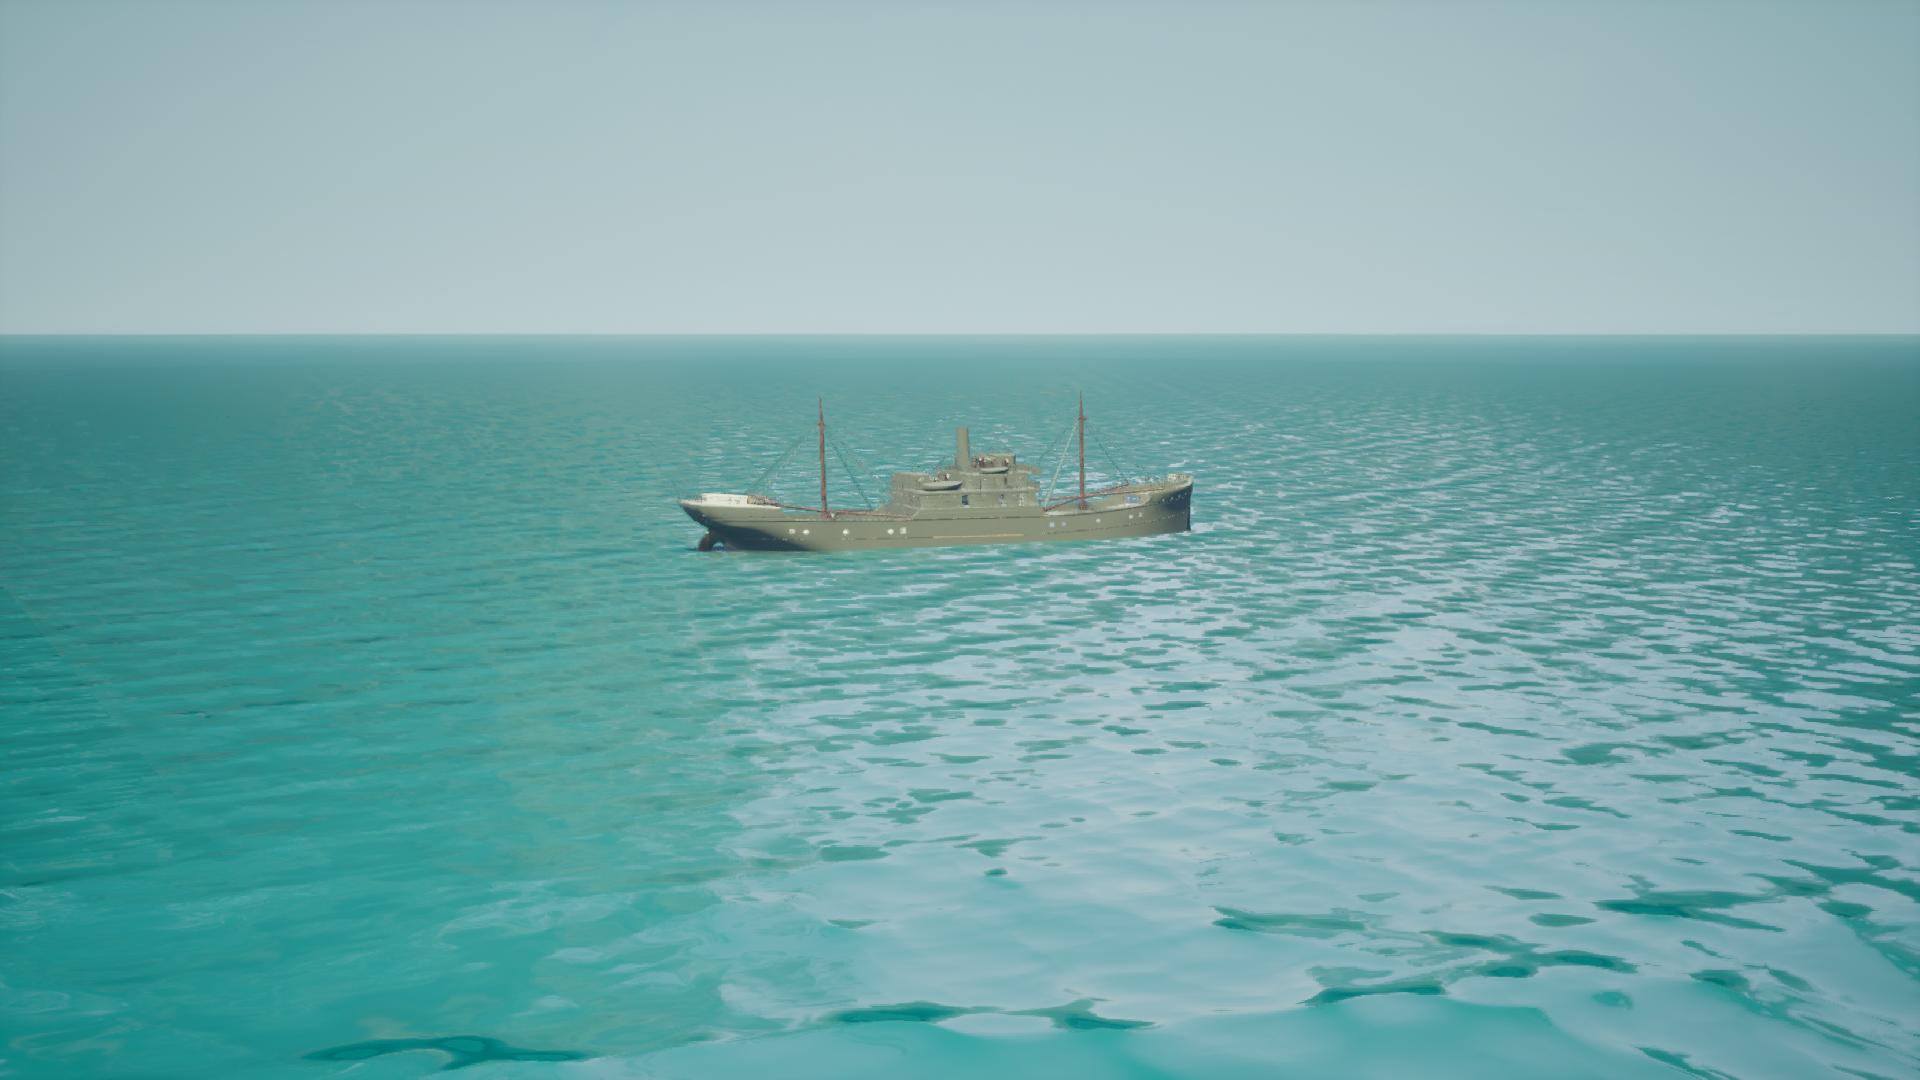Fishing Boat: (682, 390, 1193, 558)
